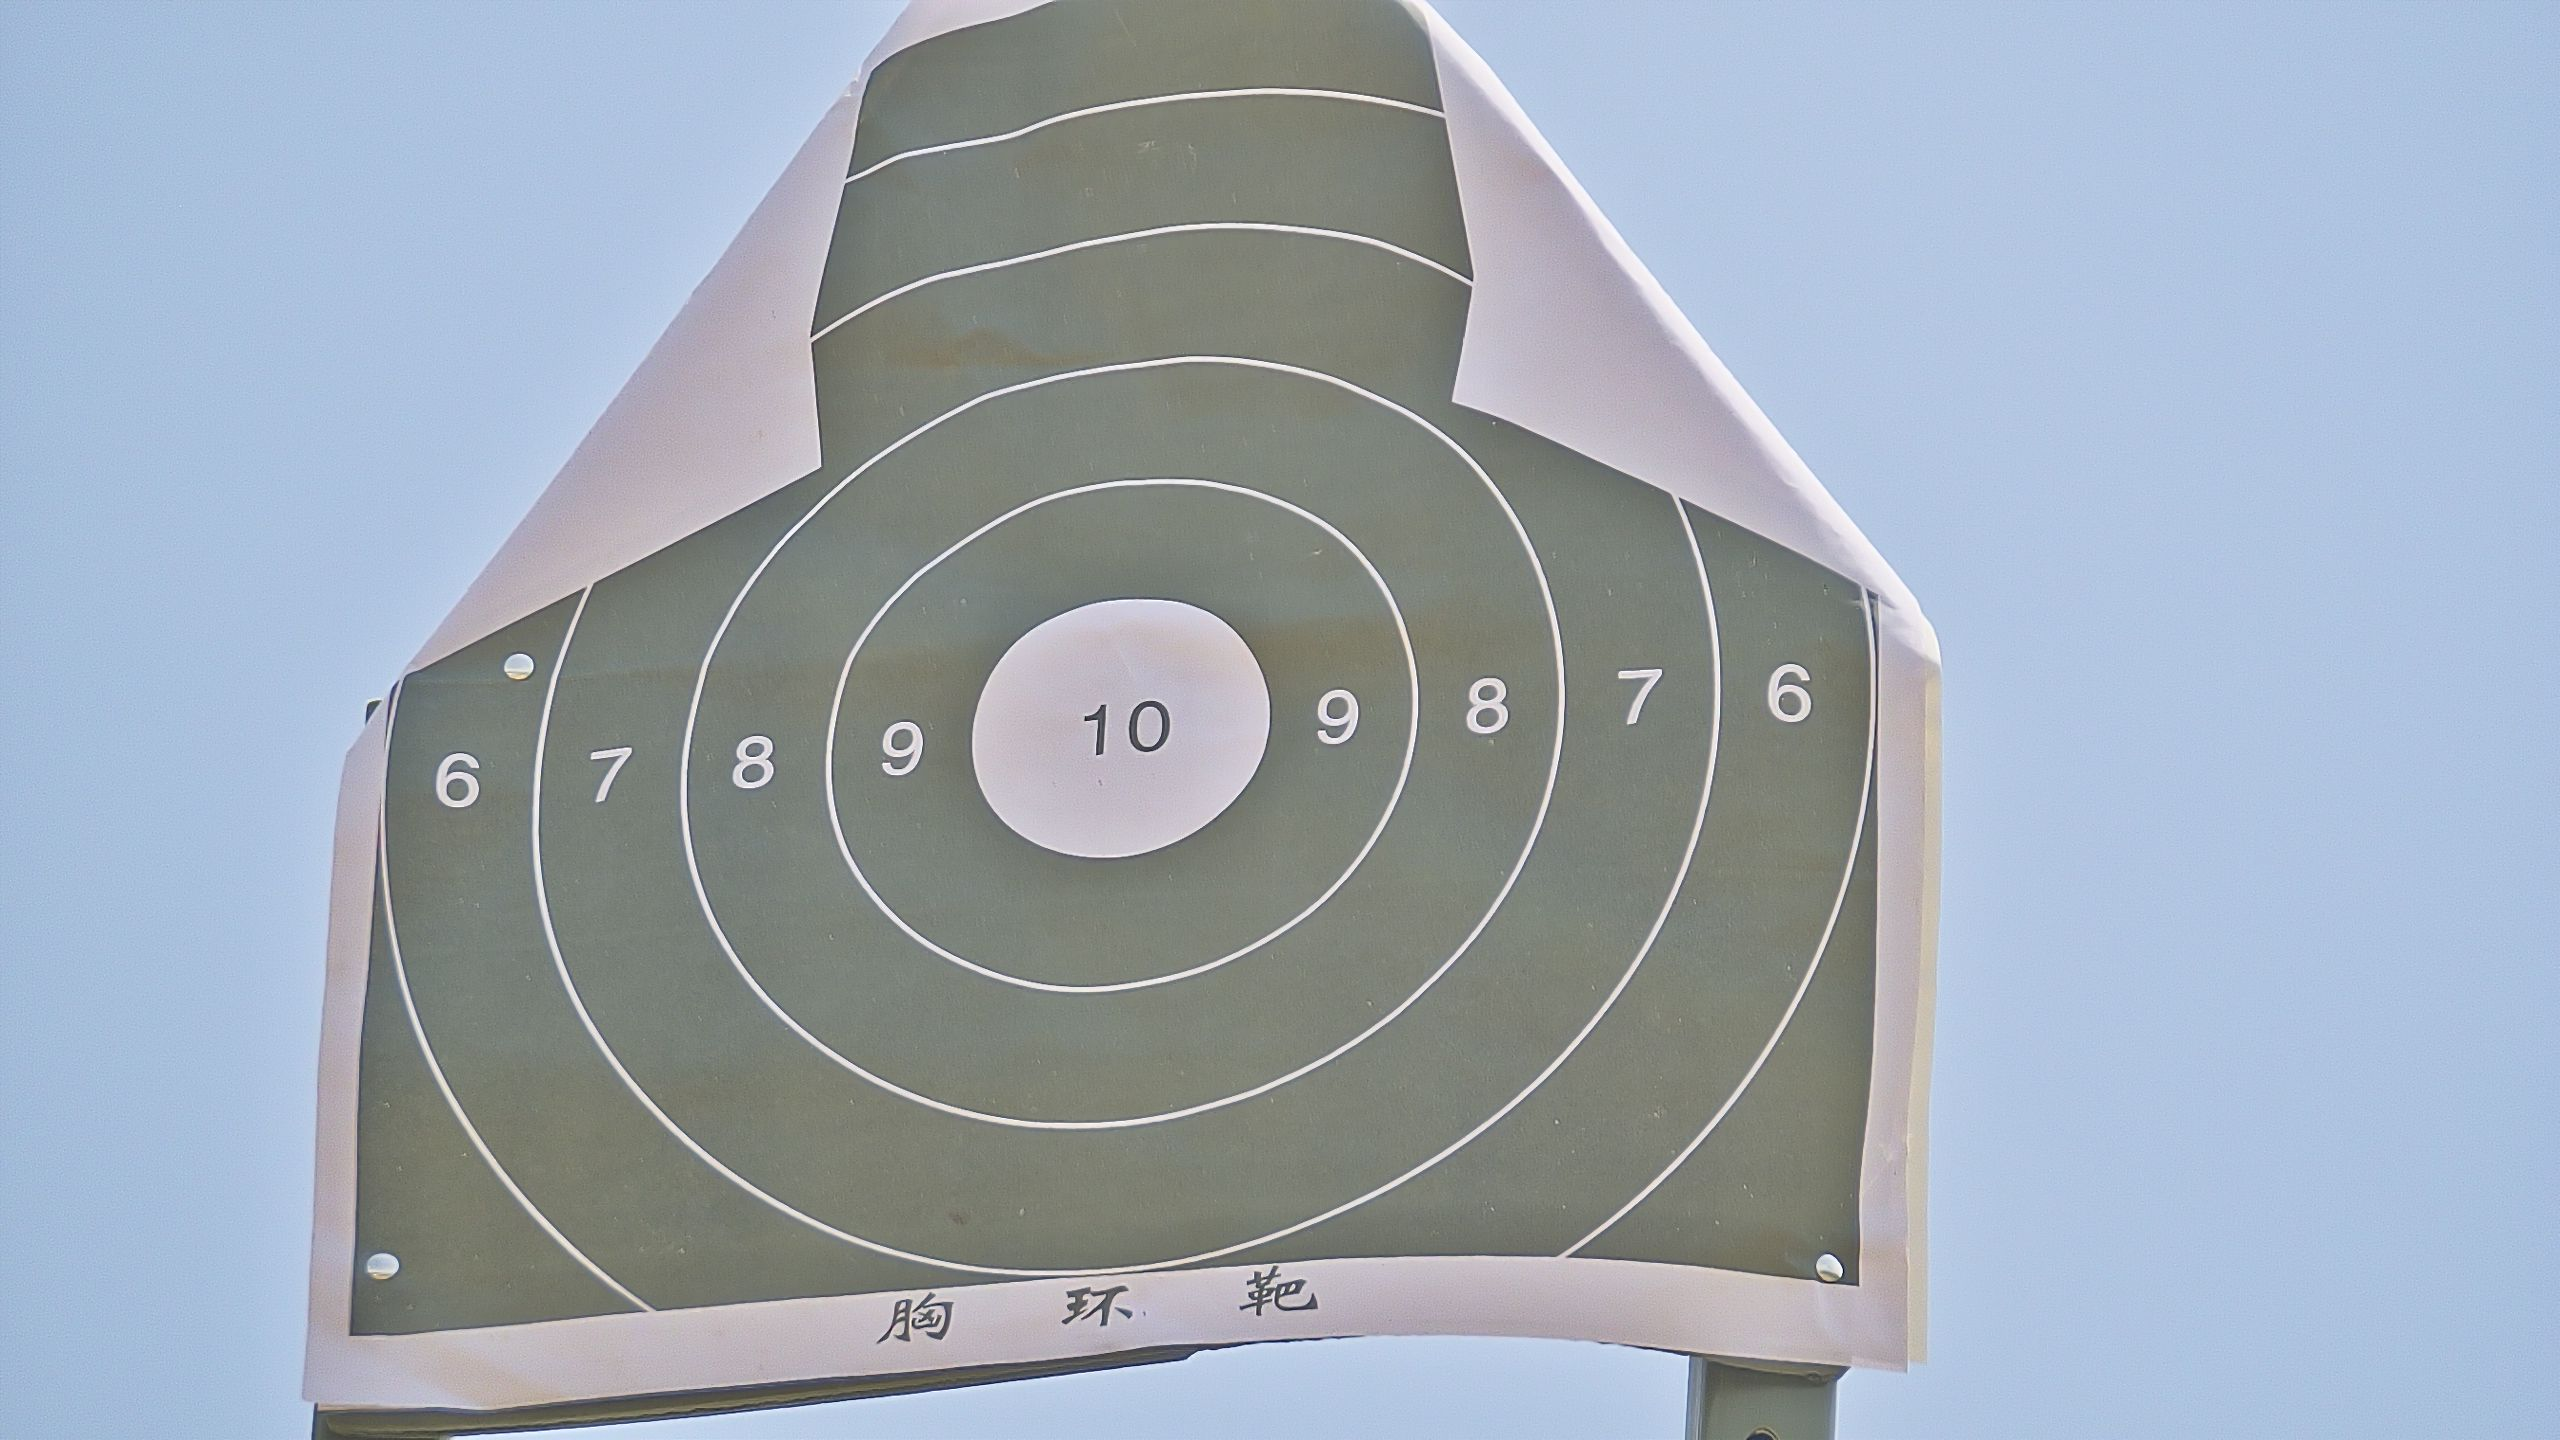kernel: (1116, 733, 1122, 737)
target: (339, 7, 1887, 1347)
ten: (969, 594, 1273, 858)
